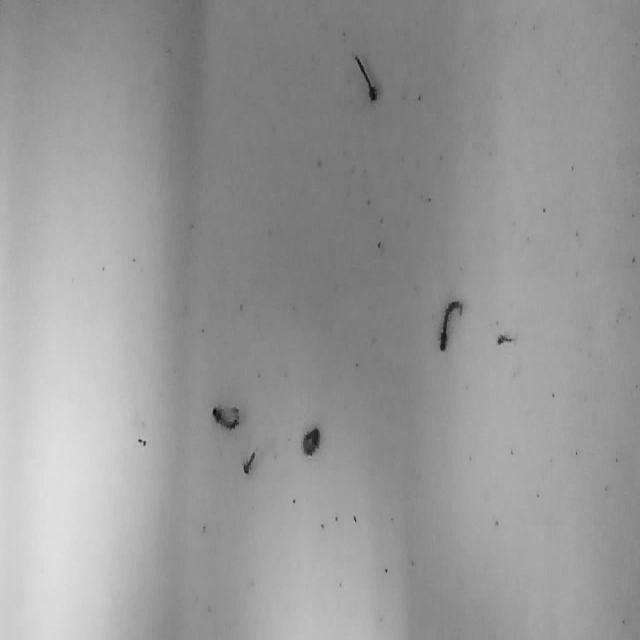larvas: (436, 299, 462, 352), (354, 55, 376, 100), (212, 406, 238, 427), (302, 427, 319, 455), (496, 332, 517, 345), (244, 451, 254, 473)
